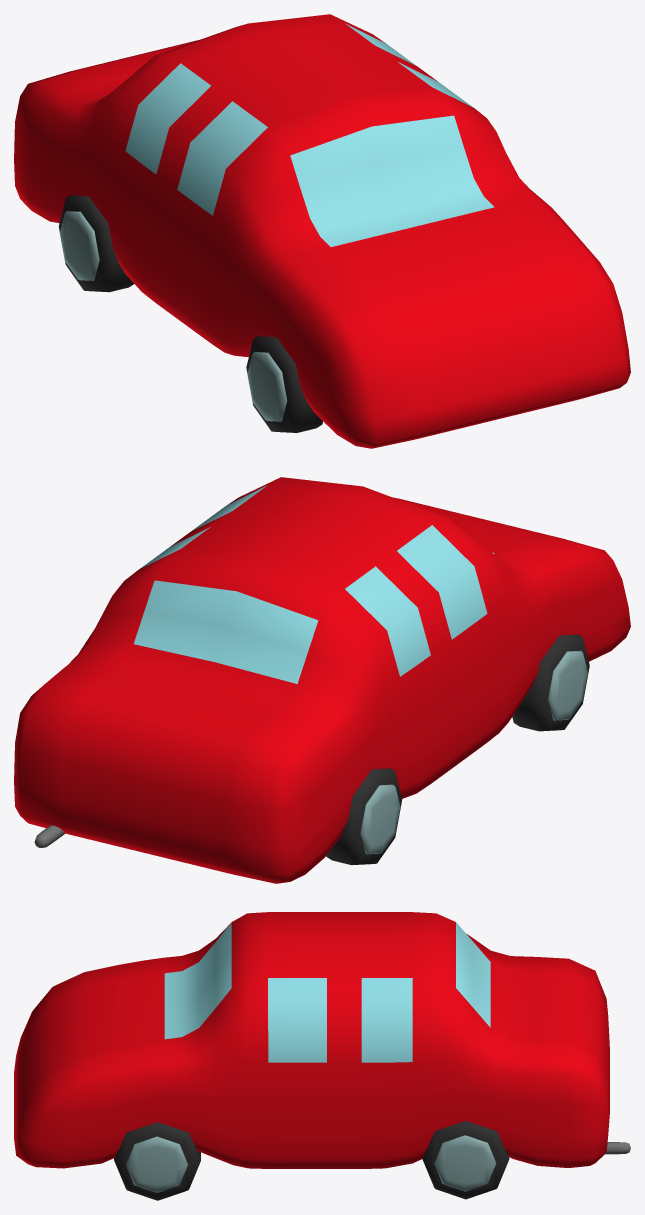
The model's file is car.glb.
The picture shows the model from 3 angles, top to bottom: view 1: azimuth 30°, elevation 25°; view 2: azimuth 150°, elevation 25°; view 3: azimuth 270°, elevation 25°; orthographic projection. The views are drawn at different scales.
Parts seen in each view (by area): view 1: Body, Tire2, Tire3, Cap3, Cap2; view 2: Body, Tire2, Tire3, Cap3, Cap2; view 3: Body, Cap4, Cap1, Tire1, Tire4.
Boxes of the visible parts, x1,y1,x2,y2 form: Body: (14, 14, 630, 448); Tire2: (246, 336, 322, 432); Tire3: (58, 195, 133, 292); Cap3: (60, 211, 99, 280); Cap2: (247, 352, 287, 421); Body: (14, 477, 630, 883); Tire2: (512, 634, 589, 731); Tire3: (326, 768, 402, 865); Cap3: (360, 784, 400, 854); Cap2: (548, 650, 587, 720); Body: (14, 912, 609, 1168); Cap4: (434, 1135, 496, 1191); Cap1: (126, 1136, 187, 1192); Tire1: (114, 1122, 200, 1200); Tire4: (422, 1121, 509, 1199).
Bounding box in the file's own units: 0.5402 × 0.4235 × 1.14.
